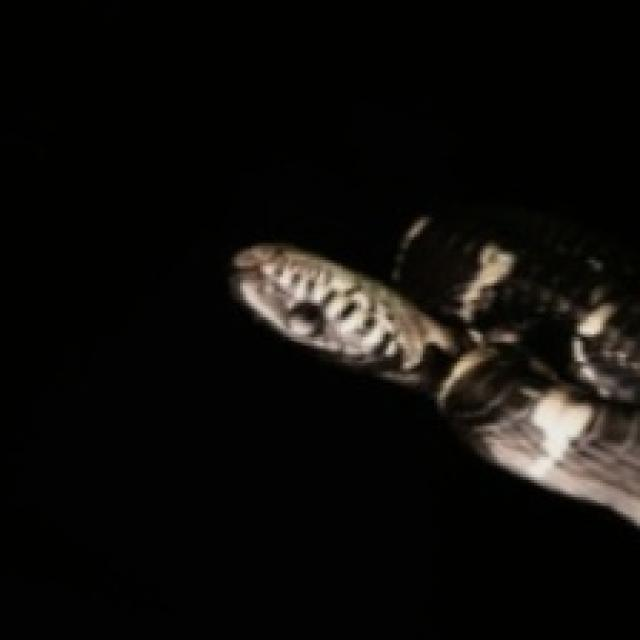mangrove cat snake: (231, 211, 637, 526)
